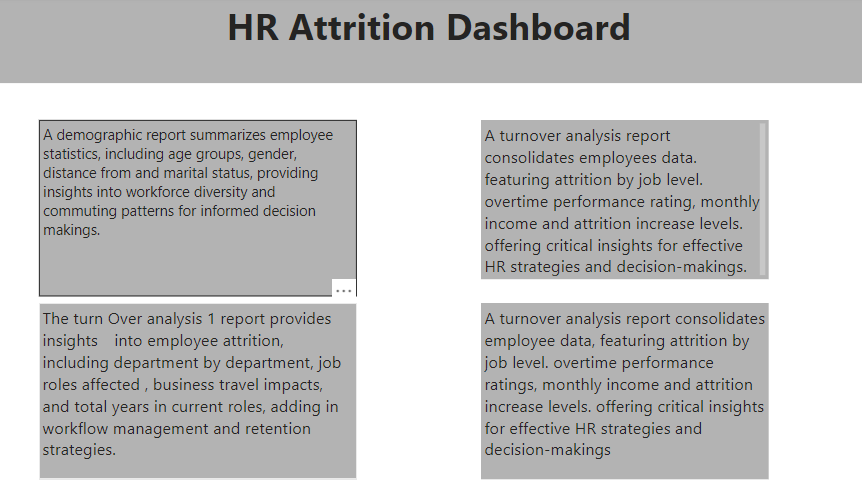

The page's visual inventory and layout, read from the dashboard file:
{"tool":"powerbi","page":{"name":"HR Attrition DashBoard","canvas":[1280,720],"ordinal":0},"visuals":[{"type":"textbox","box":[10.2,0,1270.2,125.9],"z":0},{"type":"textbox","box":[74.6,180,465.4,257.6],"z":1},{"type":"textbox","box":[75,448,465,258],"z":2},{"type":"textbox","box":[721.5,180,421.5,232.7],"z":3},{"type":"textbox","box":[721.5,447.8,421.5,257.6],"z":4}]}

Visuals, with their boxes in screenshot pixels (x1, y1, x2, y2), scaled from the page's 1280x720 canvas onto the 862x483 screenshot:
textbox: (x1=7, y1=0, x2=861, y2=84)
textbox: (x1=50, y1=121, x2=364, y2=294)
textbox: (x1=51, y1=301, x2=364, y2=474)
textbox: (x1=486, y1=121, x2=770, y2=277)
textbox: (x1=486, y1=300, x2=770, y2=473)
